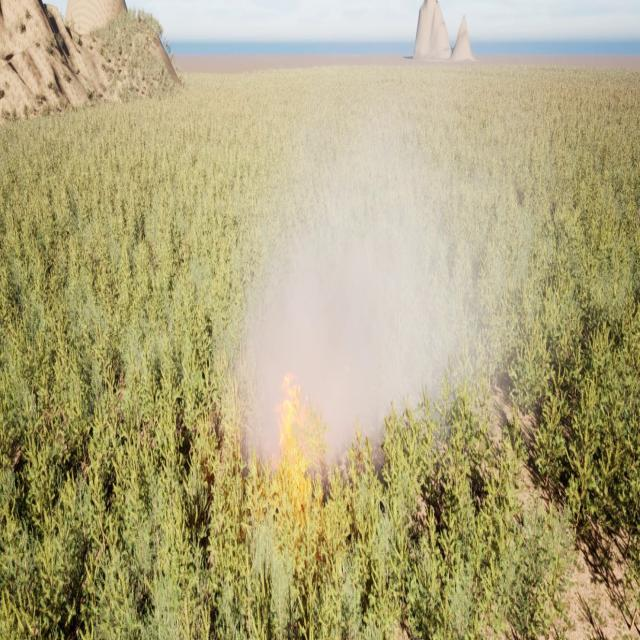fire: (271, 366, 320, 498)
smoke: (230, 87, 534, 498)
